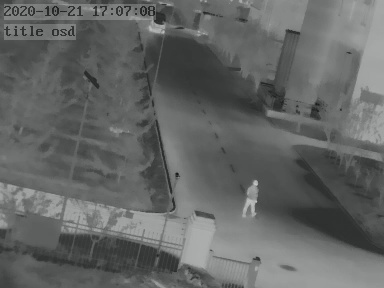person: (242, 177, 259, 217)
vehicle: (149, 12, 168, 35)
